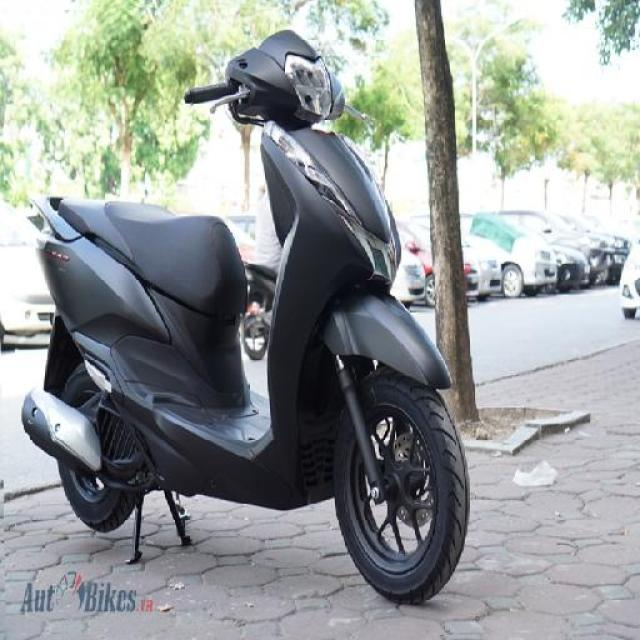All: (16, 27, 470, 605)
Head: (182, 30, 370, 128)
Tail: (23, 187, 99, 265)
